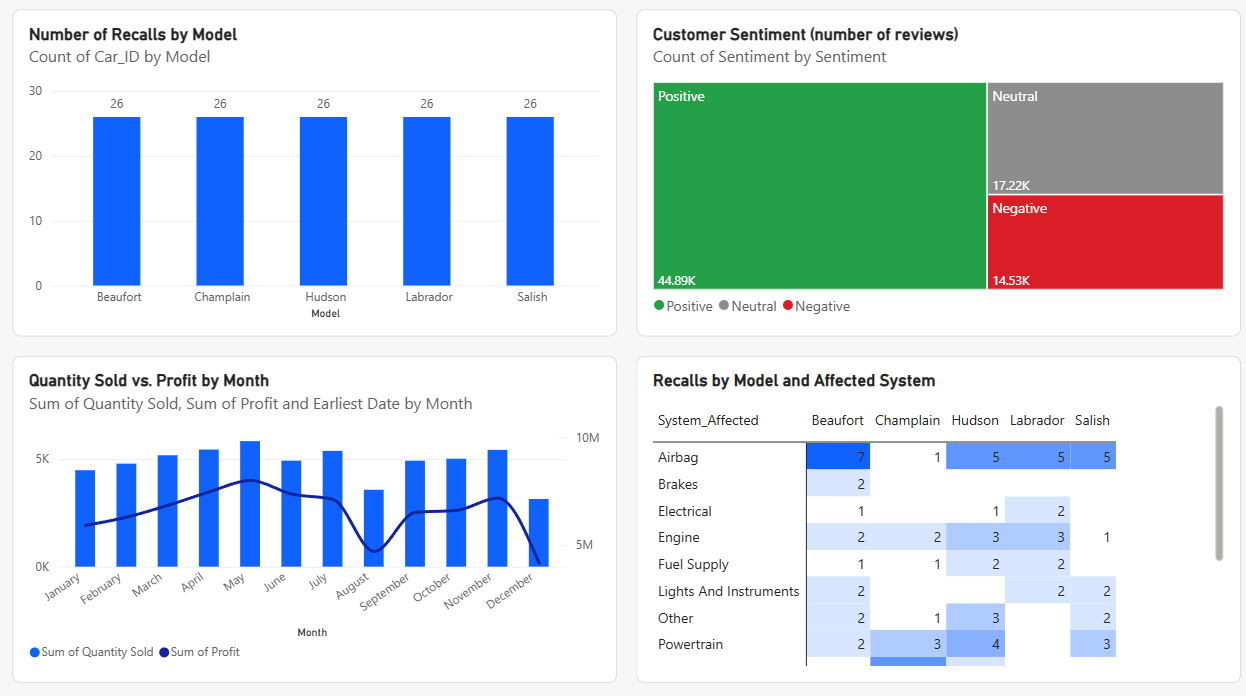

What the dashboard file says about the page in this screenshot:
{"tool":"powerbi","page":{"name":"Service","canvas":[1280,720],"ordinal":1},"visuals":[{"type":"clusteredColumnChart","title":"Number of Recalls by Model","fields":{"Category":["car_recalls.Model"],"Y":["CountNonNull(car_recalls.Car_ID)"]},"box":[20,20,610,330],"z":0},{"type":"treemap","title":"Customer Sentiment (number of reviews)","fields":{"Group":["sentiment.Sentiment"],"Values":["CountNonNull(sentiment.Sentiment)"]},"box":[650,20,610,330],"z":1000},{"type":"lineClusteredColumnComboChart","title":"Quantity Sold vs. Profit by Month","fields":{"Category":["sales_by_model.Month"],"Y":["Sum(sales_by_model.Quantity Sold)"],"Y2":["Sum(sales_by_model.Profit)"]},"box":[20,370,610,330],"z":2000},{"type":"pivotTable","title":"Recalls by Model and Affected System","fields":{"Columns":["car_recalls.Model"],"Rows":["car_recalls.System_Affected"],"Values":["CountNonNull(car_recalls.Car_ID)"]},"box":[650,370,610,330],"z":3000}]}

Visuals, with their boxes in screenshot pixels (x1, y1, x2, y2), scaled from the page's 1280x720 canvas onto the 1246x696 screenshot:
"Number of Recalls by Model" clusteredColumnChart: locate(19, 19, 613, 338)
"Customer Sentiment (number of reviews)" treemap: locate(633, 19, 1227, 338)
"Quantity Sold vs. Profit by Month" lineClusteredColumnComboChart: locate(19, 358, 613, 677)
"Recalls by Model and Affected System" pivotTable: locate(633, 358, 1227, 677)
